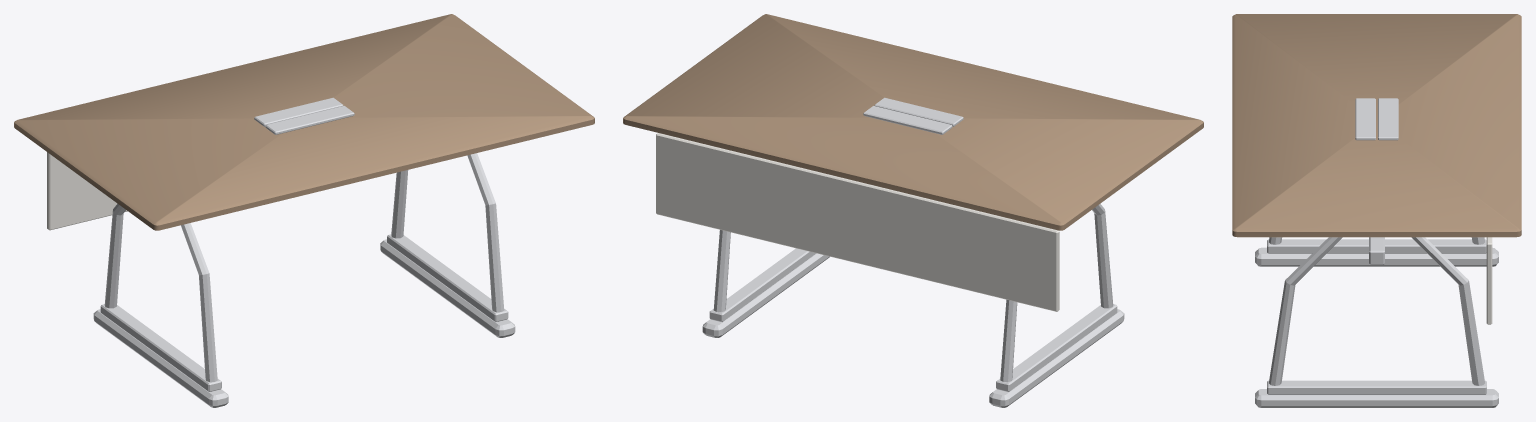
Rendered from table.glb.
3 views of the same model, side by side, from view 1: azimuth 30°, elevation 25°; view 2: azimuth 150°, elevation 25°; view 3: azimuth 270°, elevation 25° (orthographic).
Parts seen in each view (by area): view 1: conference-table-module, lid-cable-box; view 2: conference-table-module, lid-cable-box; view 3: conference-table-module, lid-cable-box.
Part boxes in pixels (x1=…): conference-table-module: x1=14, y1=14, x2=594, y2=407; lid-cable-box: x1=254, y1=97, x2=354, y2=134; conference-table-module: x1=623, y1=14, x2=1203, y2=407; lid-cable-box: x1=863, y1=97, x2=963, y2=134; conference-table-module: x1=1232, y1=14, x2=1521, y2=407; lid-cable-box: x1=1355, y1=98, x2=1398, y2=140.
Size of the model in its own units: 1.6 by 0.742 by 0.8999.
